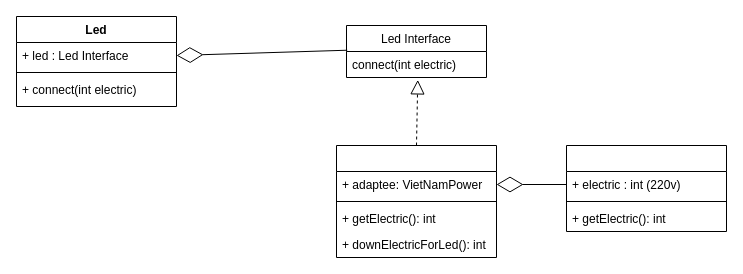
Some shapes in this 743 by 274 pixel diagram are drawn without their labels. The shapes that lost their labels are listed below. From the top down, each one's box as (x1, y1, x2, y2) in pixels, then its label:
(336, 144, 496, 258): AdapterElectric
(566, 144, 726, 232): VietNamPower
